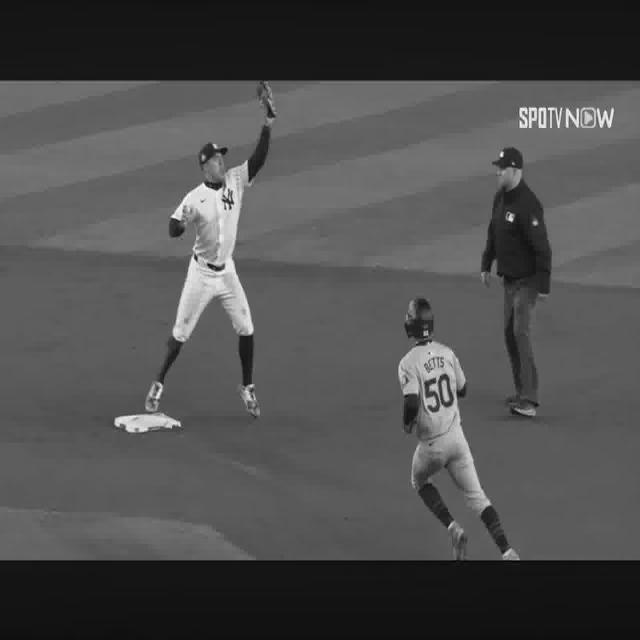base: (114, 413, 181, 433)
baseball_glove: (260, 82, 276, 128)
shoe: (448, 522, 468, 562), (239, 383, 261, 418), (145, 382, 164, 413), (510, 403, 536, 416)
